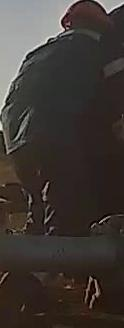helmet: (60, 0, 113, 30)
vest: (1, 29, 110, 195)
